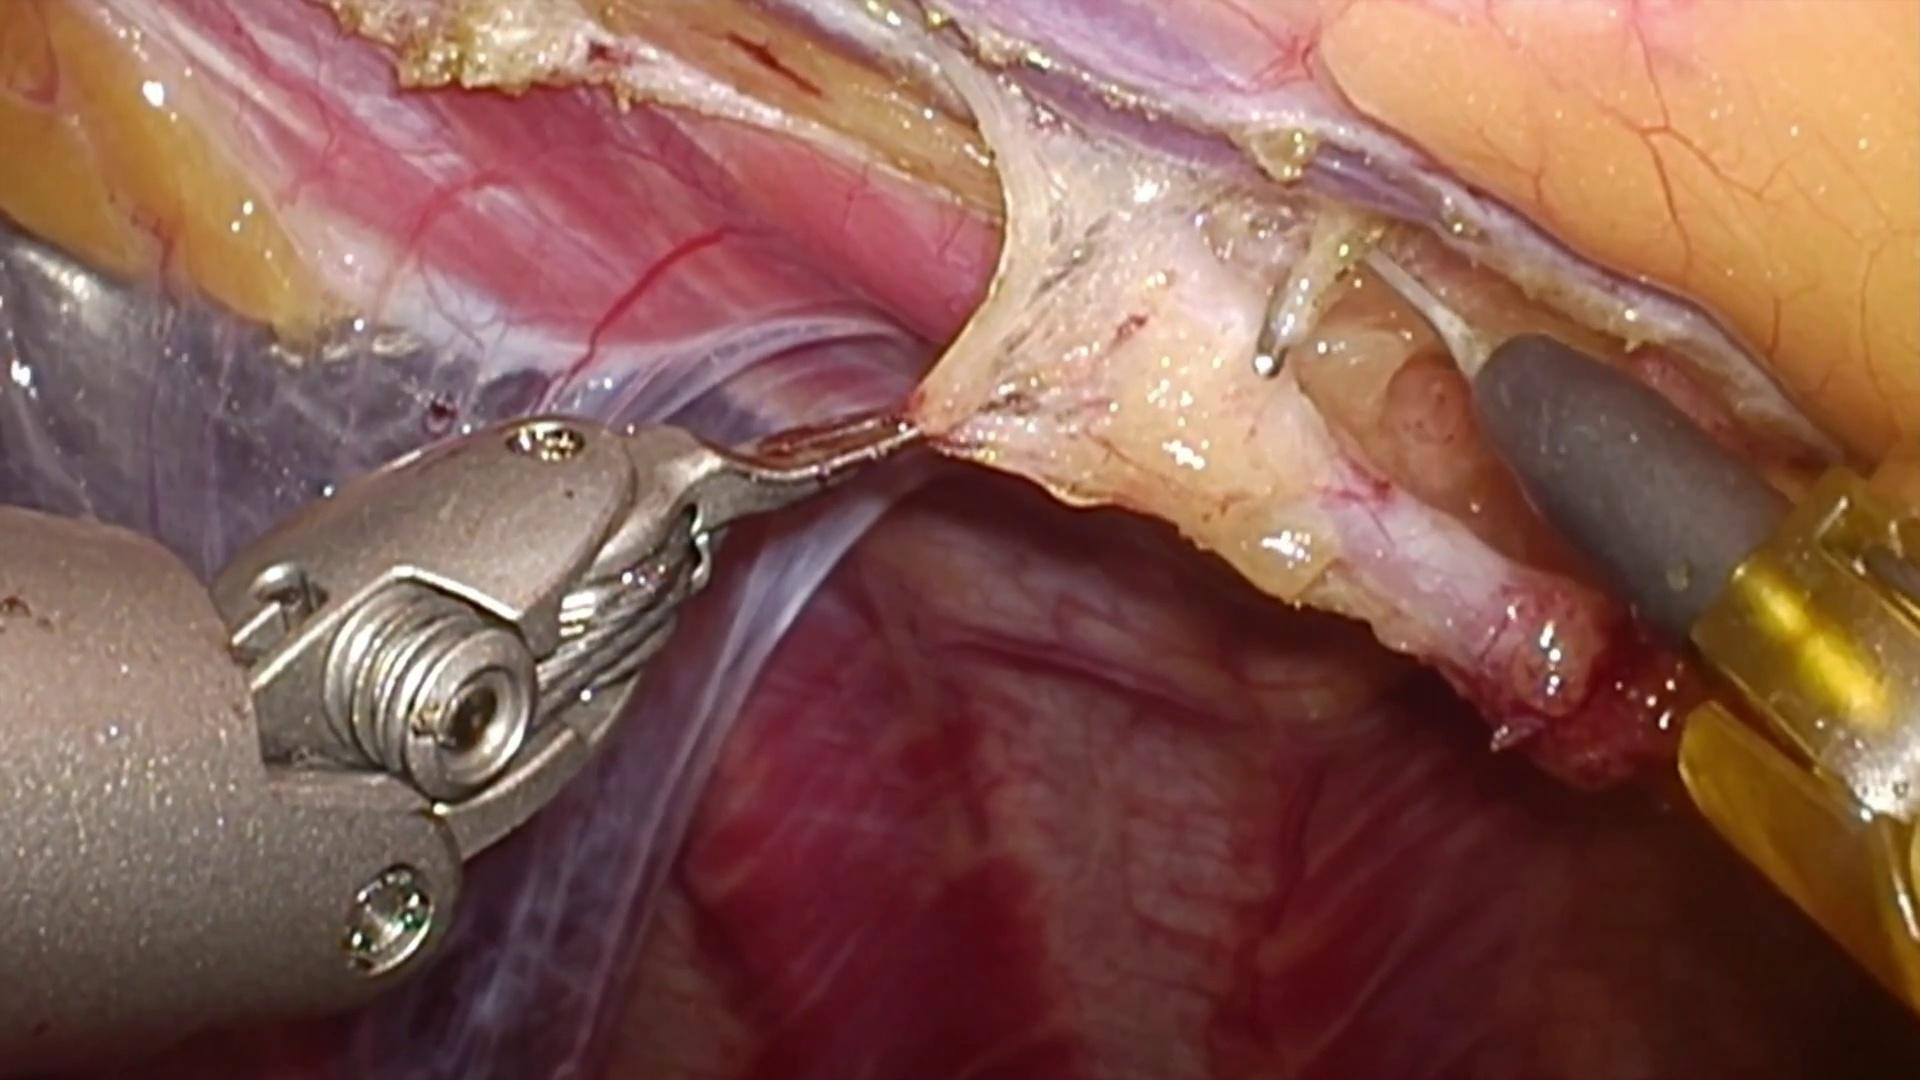Cautery_Spatula: (1352, 240, 1795, 654)
Debakey: (632, 393, 949, 553)
